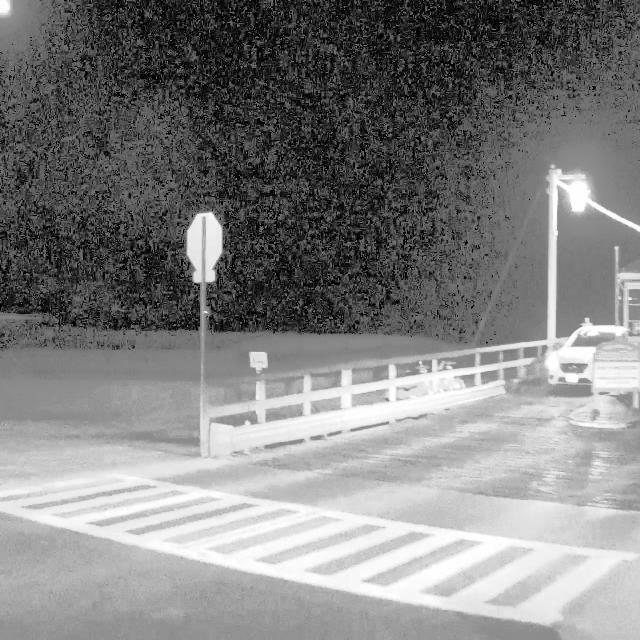Sign: (186, 213, 223, 287)
